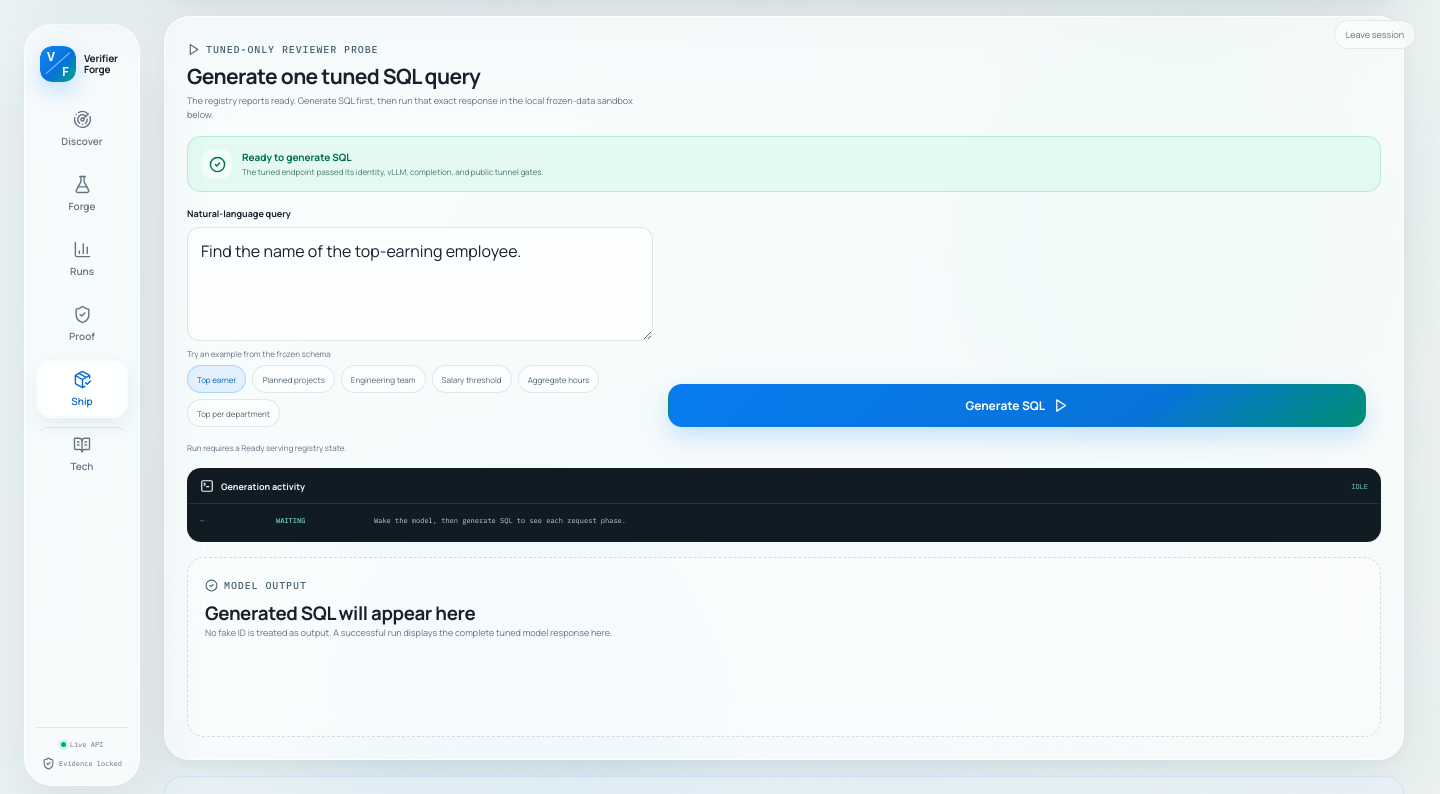
Test case: reviewer product path › shows a real SQLite failure as an execution outcome rather than a fake success
(page scrolled)
Click the button "Generate SQL": (1017, 406) [668,384,1366,427]
(page scrolled)
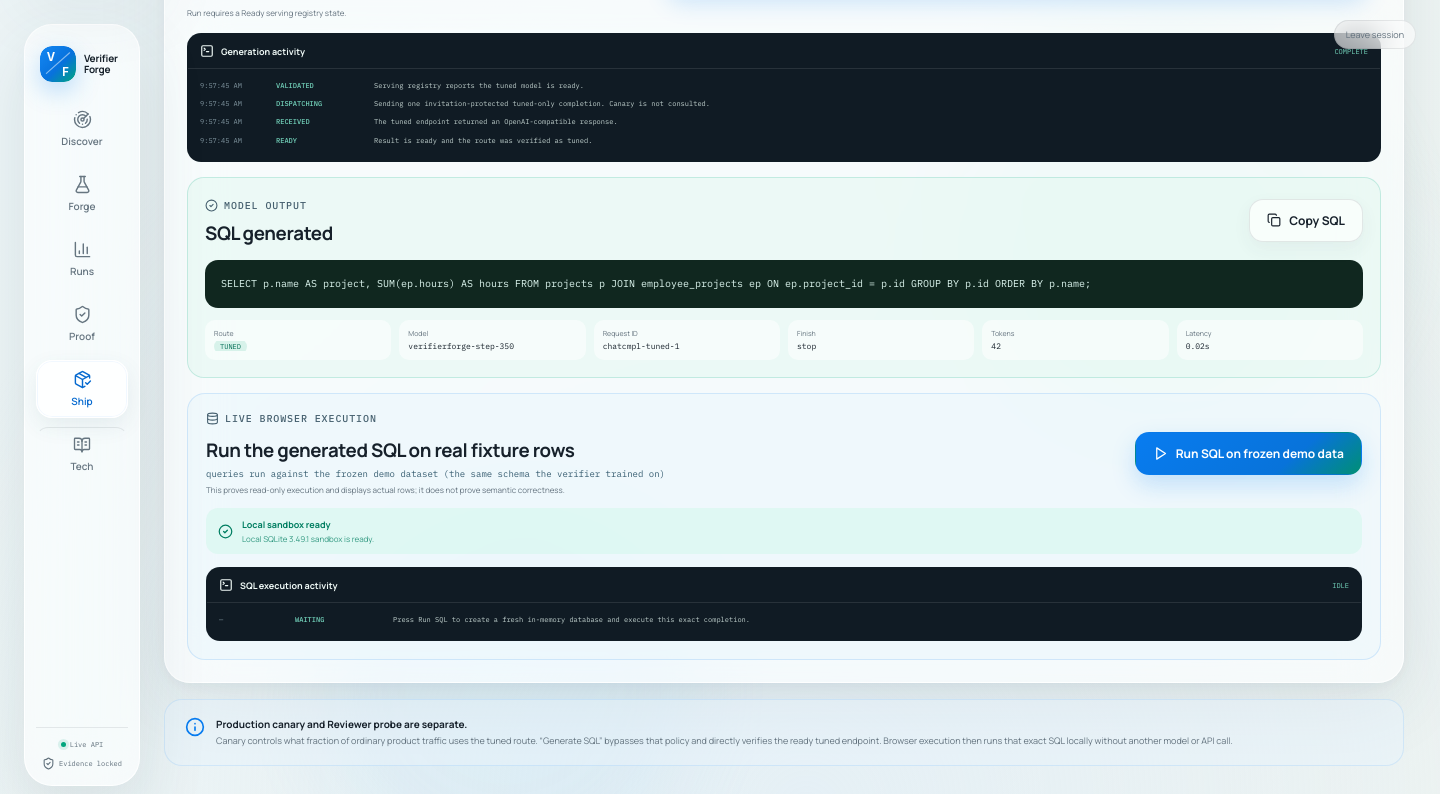
Expected: the heading "SQL generated" is shown, [205,220,333,246]
Click the button "Run SQL on frozen demo data": (1248, 453) [1135,432,1362,475]
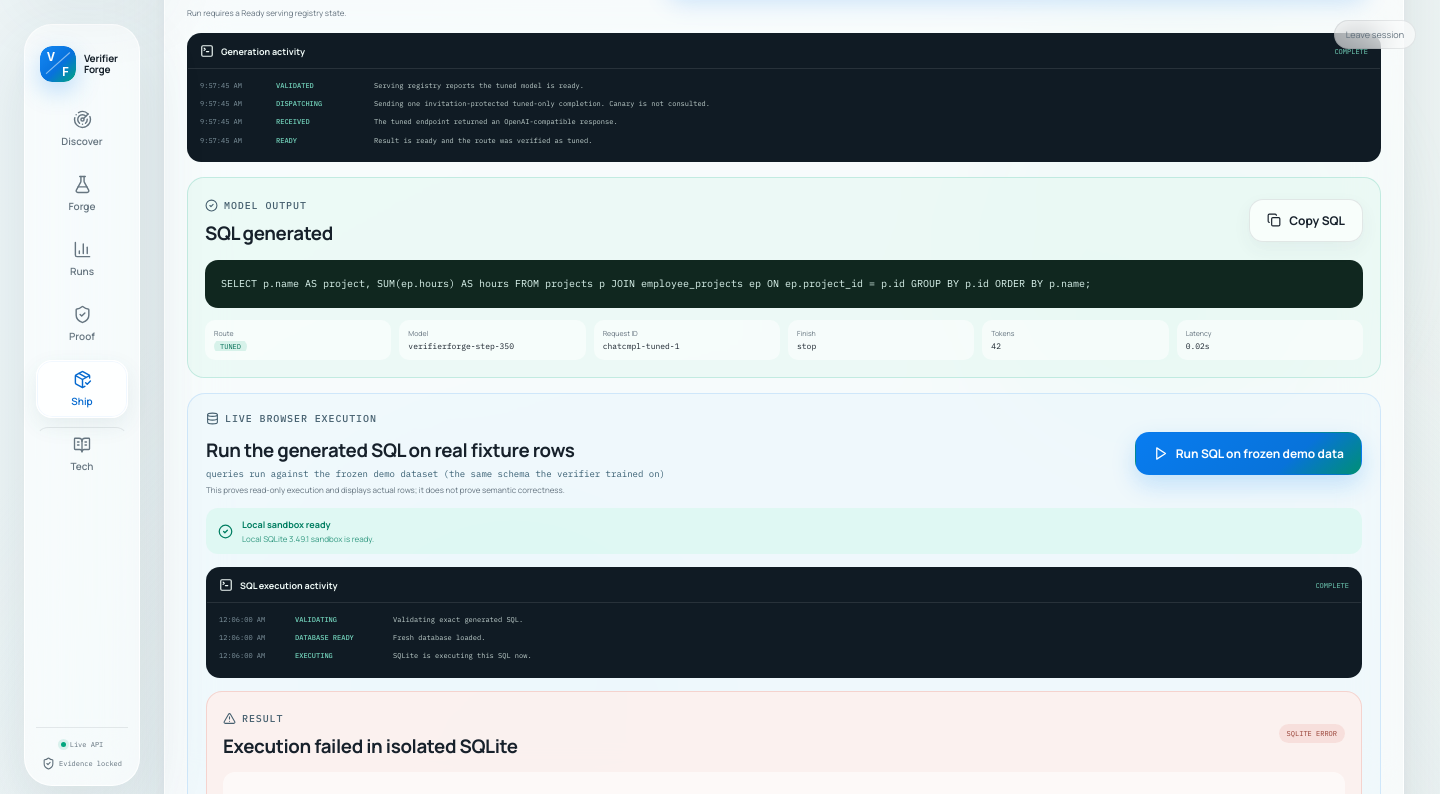
Expected: the heading "SQL generated" is shown, [205,220,333,246]
Expected: the heading "Execution failed in isolated SQLite" is shown, [223,733,518,759]
